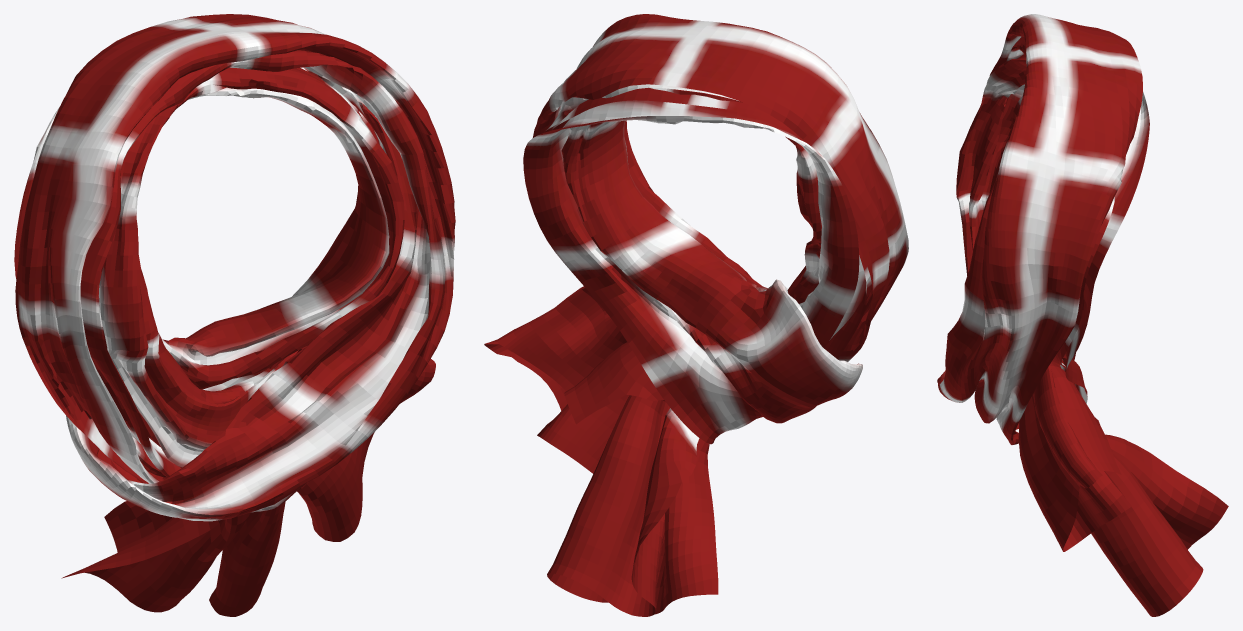
The model's file is Neckline.fbx.
The picture shows the model from 3 angles, left to right: view 1: azimuth 30°, elevation 25°; view 2: azimuth 150°, elevation 25°; view 3: azimuth 270°, elevation 25°; orthographic projection. The views are drawn at different scales.
Visible parts, largest first — view 1: weijing:Group58176; view 2: weijing:Group58176; view 3: weijing:Group58176.
Part boxes in pixels (bbox=[...]): weijing:Group58176: bbox=[14, 14, 455, 616]; weijing:Group58176: bbox=[484, 14, 908, 616]; weijing:Group58176: bbox=[937, 14, 1228, 616].
Bounding box in the file's own units: 59.74 × 83.87 × 41.
